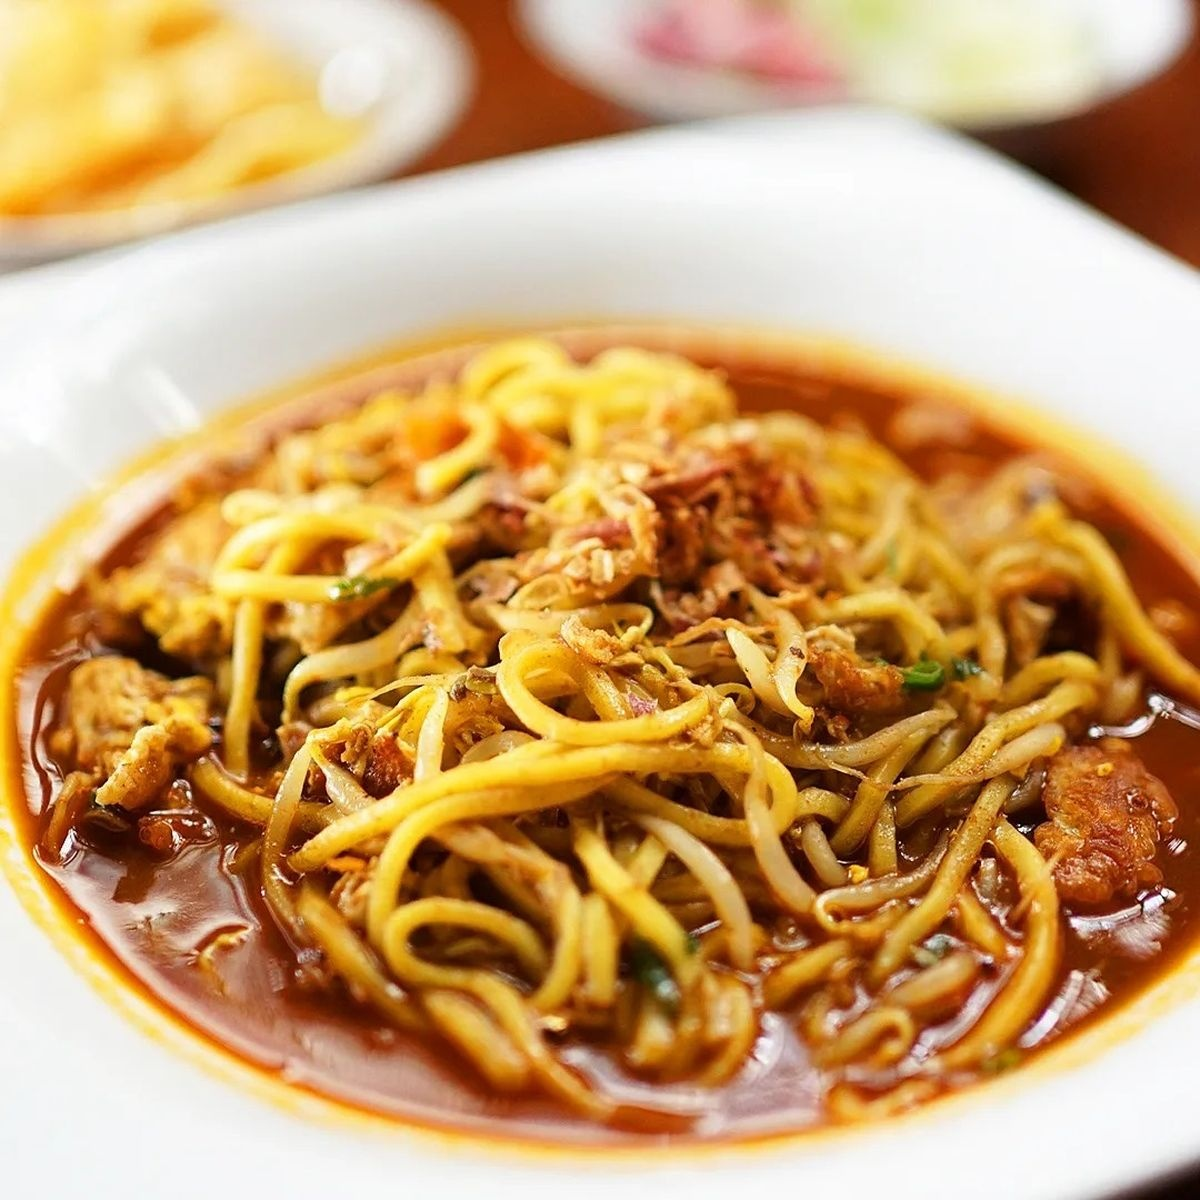mie_aceh: (8, 318, 1200, 1143)
